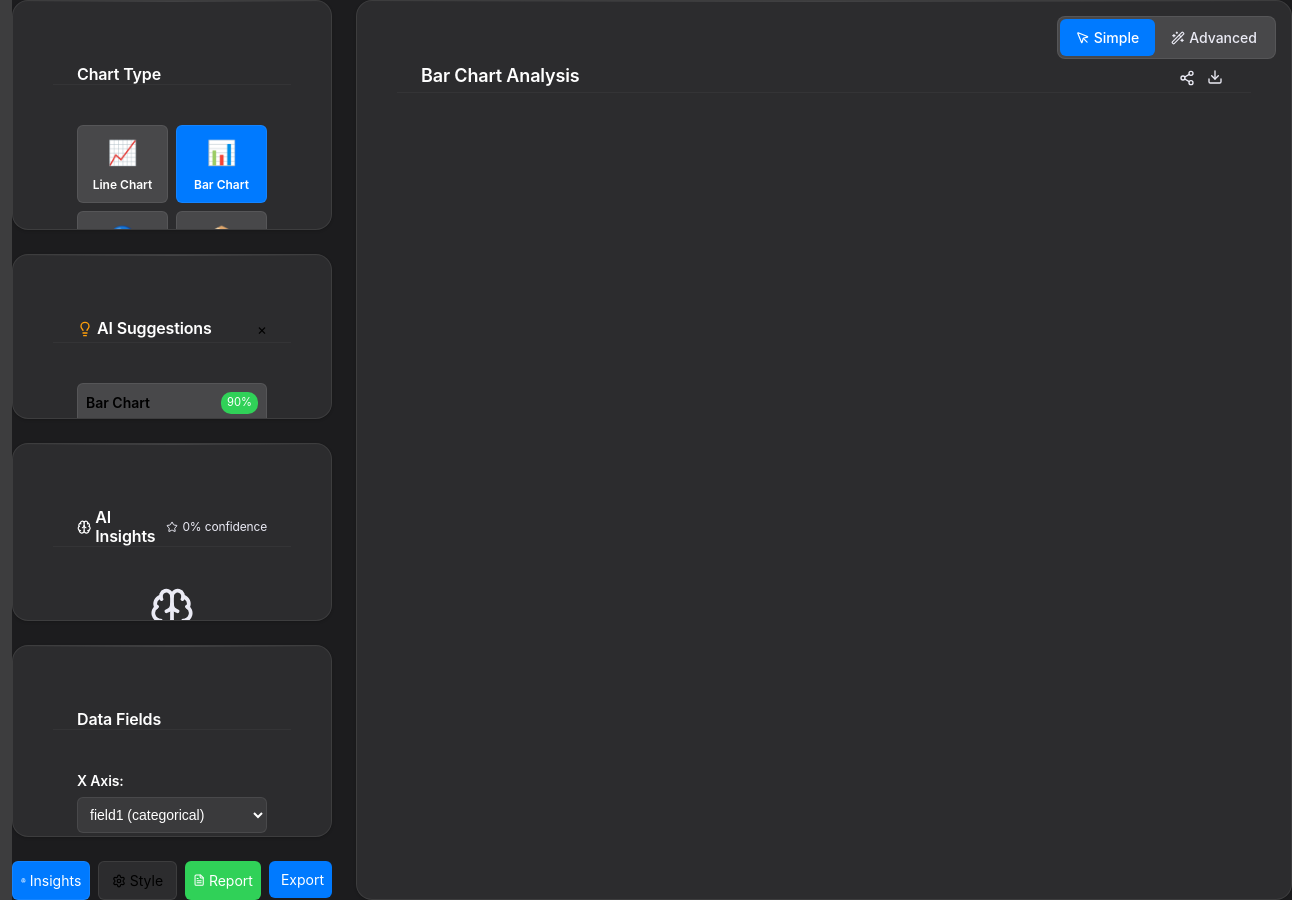
Test: ChartBuilder › AI Features › toggles AI insights panel
Check: the element with test id "ai-insights-panel" is shown, box [12, 443, 332, 621]
# Click insights button to hide
Click the button "Insights" at [51, 880], box [12, 861, 90, 899]
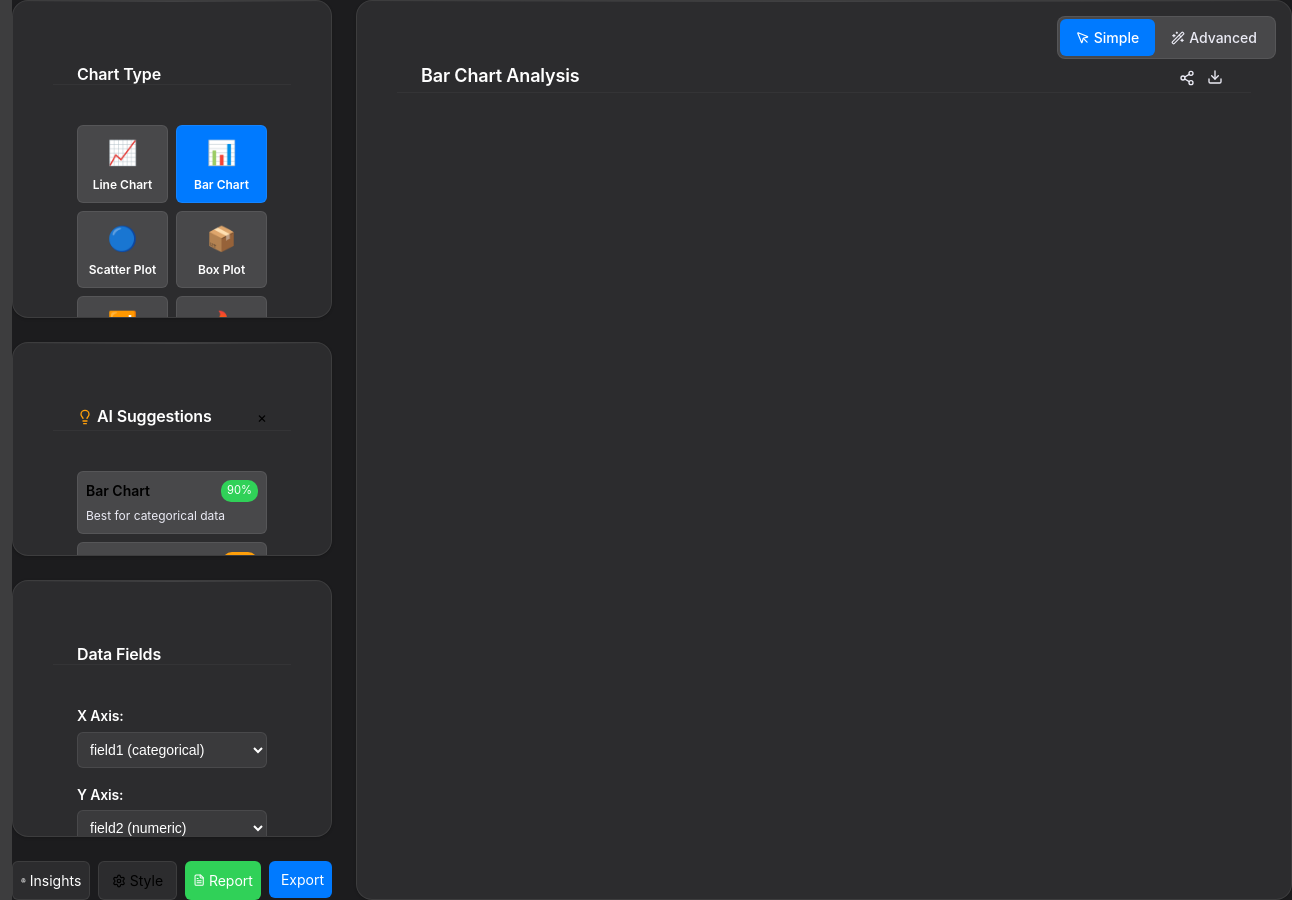
Check: the element with test id "ai-insights-panel" is gone
# Click again to show
Click the button "Insights" at [51, 880], box [12, 861, 90, 899]
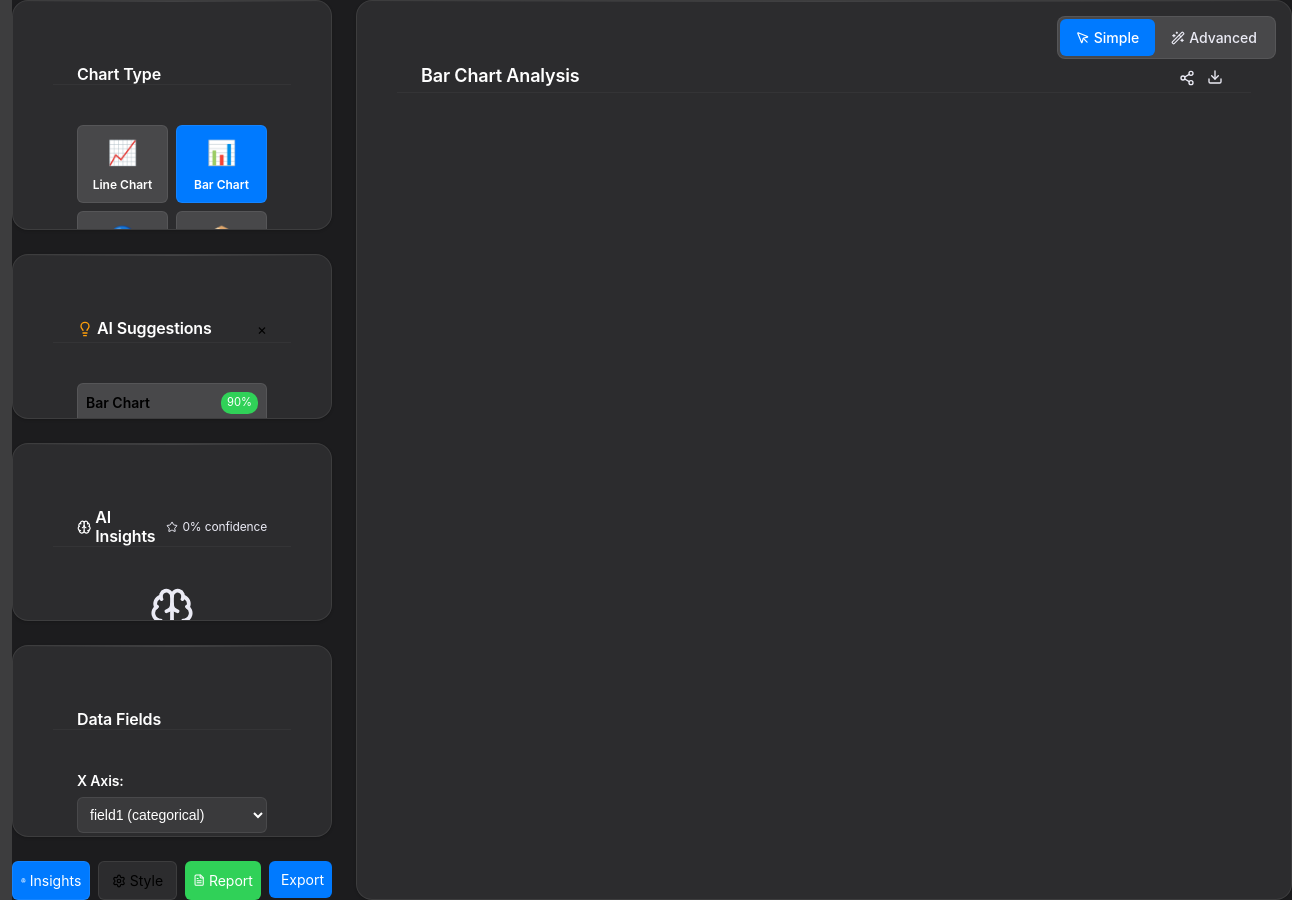
Check: the element with test id "ai-insights-panel" is shown, box [12, 443, 332, 621]
